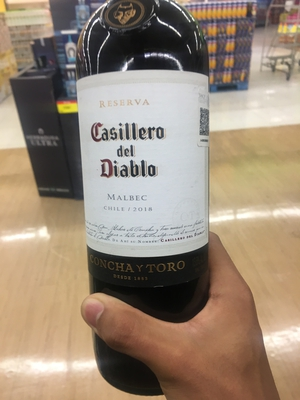casillero del diablo malbec: (76, 5, 229, 398)
